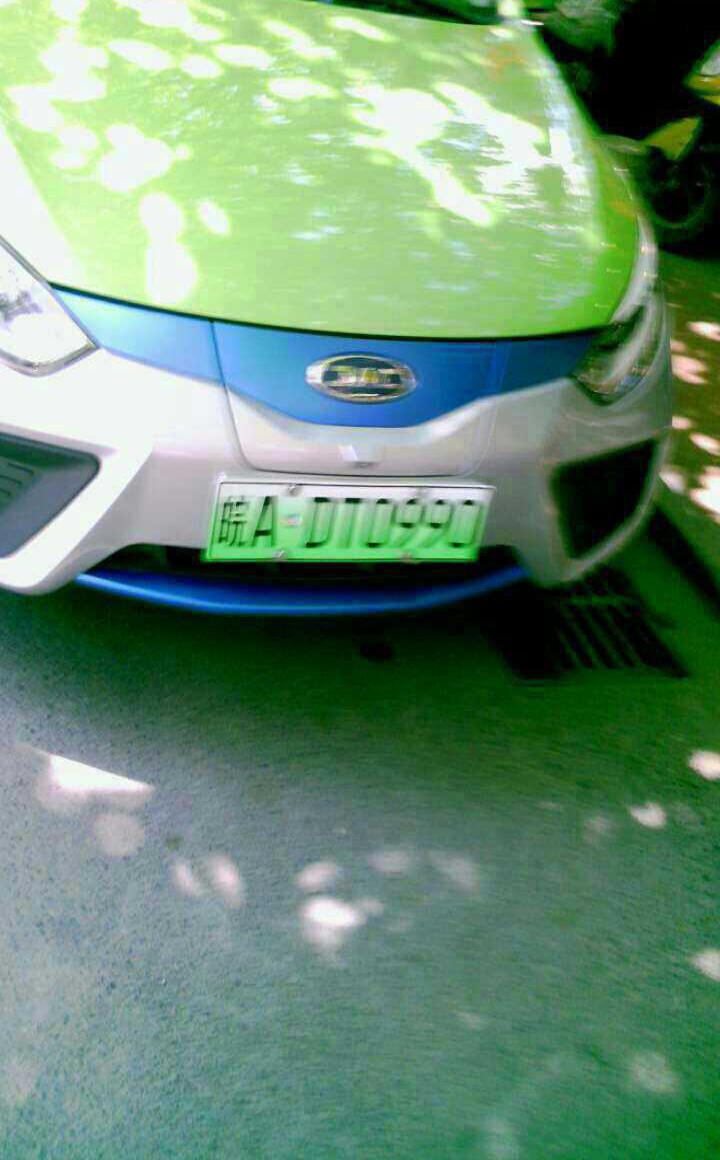car_green: (208, 477, 491, 573)
